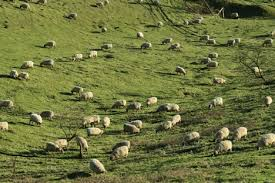sheep: (213, 137, 234, 158), (212, 123, 233, 142), (75, 135, 97, 152), (46, 137, 69, 153), (27, 112, 47, 130), (89, 157, 108, 175), (109, 100, 132, 114), (40, 38, 62, 51), (158, 100, 178, 114), (233, 127, 249, 144), (204, 98, 226, 110), (259, 133, 275, 149), (7, 68, 24, 83), (81, 115, 104, 126), (182, 130, 199, 144), (79, 90, 97, 103), (174, 63, 188, 79), (112, 147, 129, 160), (210, 75, 228, 87), (145, 95, 160, 109), (113, 140, 132, 151), (260, 94, 273, 110), (38, 57, 55, 69), (208, 48, 222, 62), (169, 113, 182, 127), (69, 84, 84, 96), (124, 101, 140, 112), (200, 33, 212, 47), (160, 119, 172, 133), (38, 109, 53, 120), (85, 50, 100, 61), (1, 99, 13, 112), (101, 42, 115, 53), (160, 36, 177, 45), (65, 12, 77, 24), (18, 58, 31, 69), (261, 38, 274, 49), (205, 61, 219, 71), (170, 41, 182, 52), (253, 63, 264, 75), (102, 117, 113, 129), (71, 53, 84, 63), (206, 36, 216, 49), (232, 35, 242, 48), (224, 37, 235, 48), (136, 28, 145, 41), (18, 70, 29, 79), (20, 2, 31, 11), (157, 21, 166, 32), (139, 42, 153, 49), (201, 55, 211, 64), (1, 118, 9, 127), (39, 1, 49, 6)
